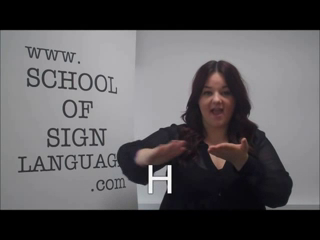H: (147, 136, 251, 165)
